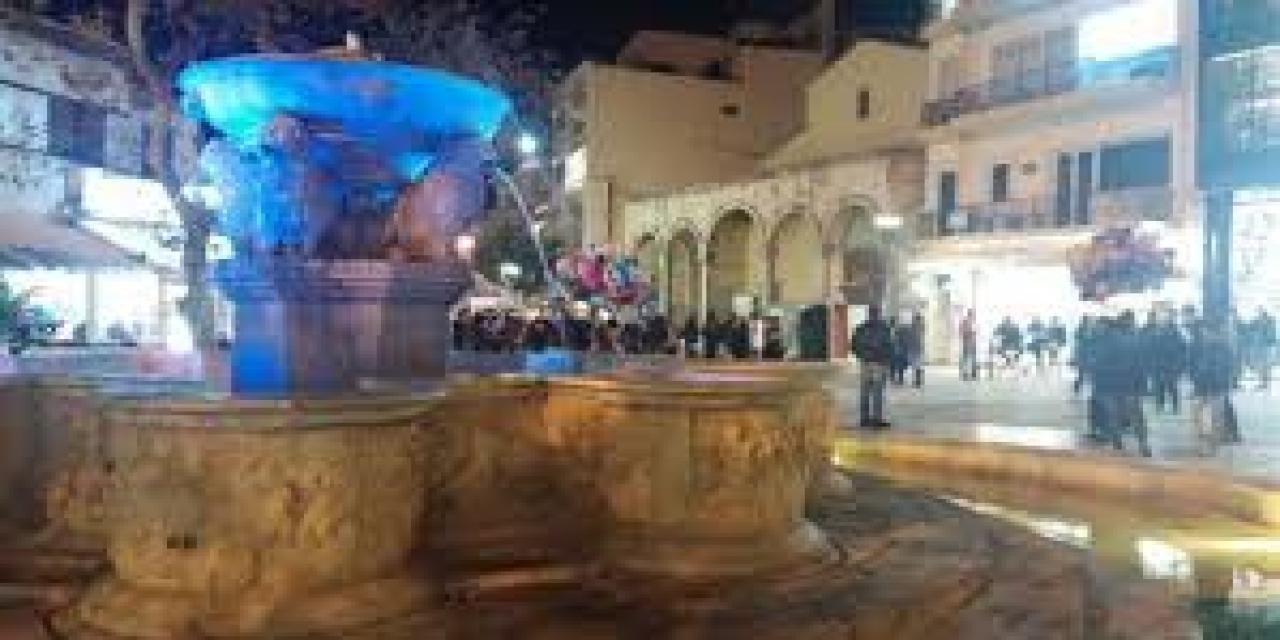Liontaria: (8, 62, 838, 621)
